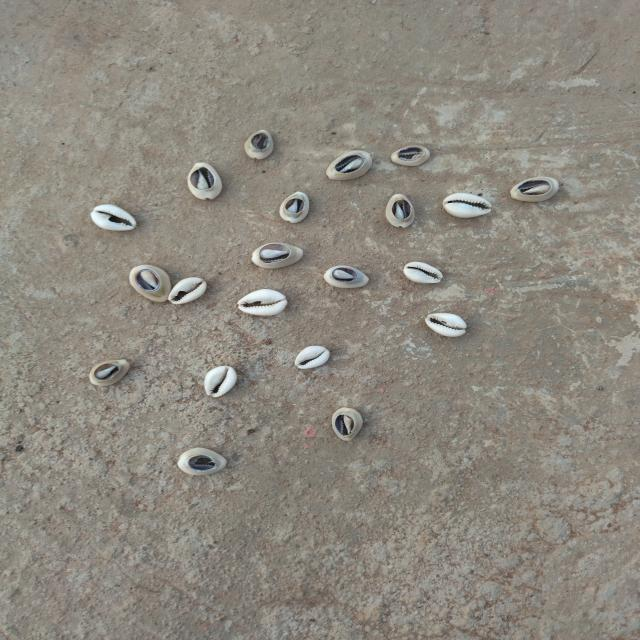facedown: (130, 264, 174, 304), (251, 241, 309, 270), (326, 150, 376, 183), (509, 176, 563, 205), (178, 446, 229, 475), (187, 162, 224, 200), (277, 190, 314, 227), (383, 193, 419, 230), (332, 405, 366, 444), (88, 358, 134, 386), (323, 264, 372, 290), (244, 128, 278, 161), (390, 146, 436, 170)
faceup: (235, 288, 290, 318), (90, 203, 140, 234), (442, 193, 495, 220), (199, 363, 240, 397), (422, 310, 470, 339), (402, 259, 450, 287), (169, 275, 209, 304), (291, 345, 333, 371)
